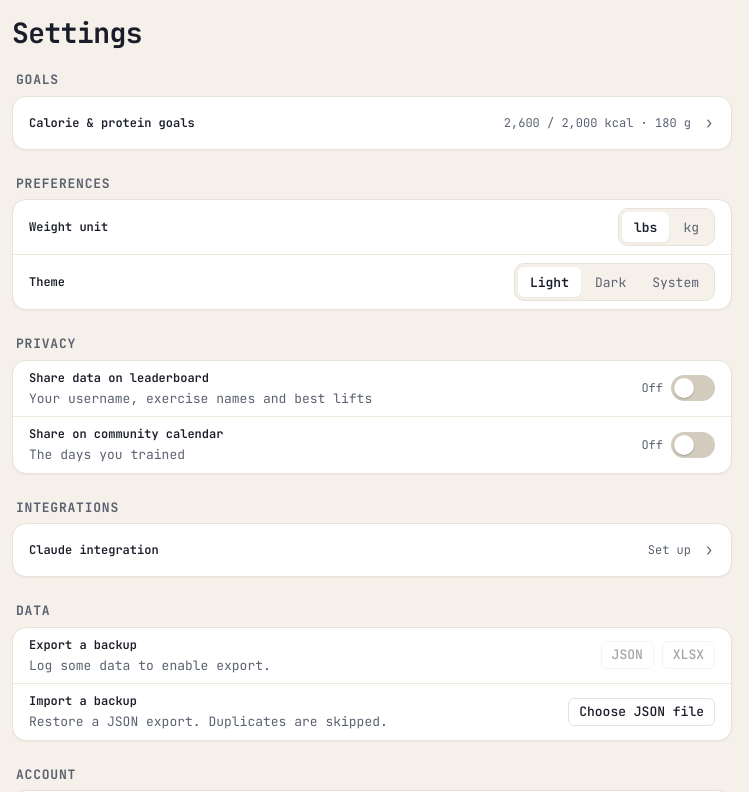
Test case: Settings — goals row › Cancel closes the form without saving
Click the button "Calorie & protein goals 2,600 / 2,000 kcal · 180 g ›" at (112, 122), box x1=13 y1=96 x2=731 y2=148
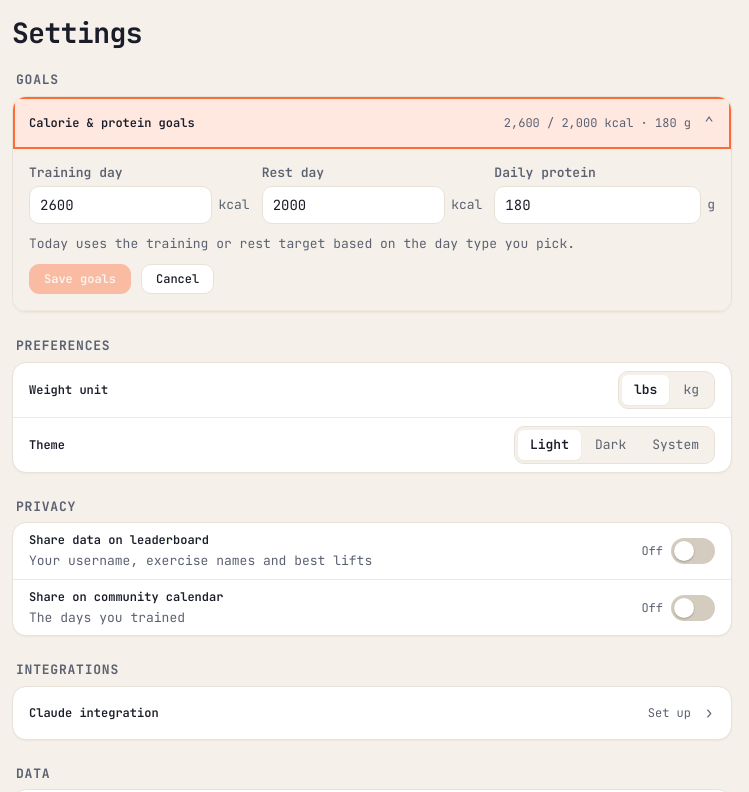
Click the button "Cancel" at (178, 279), box x1=141 y1=264 x2=214 y2=294
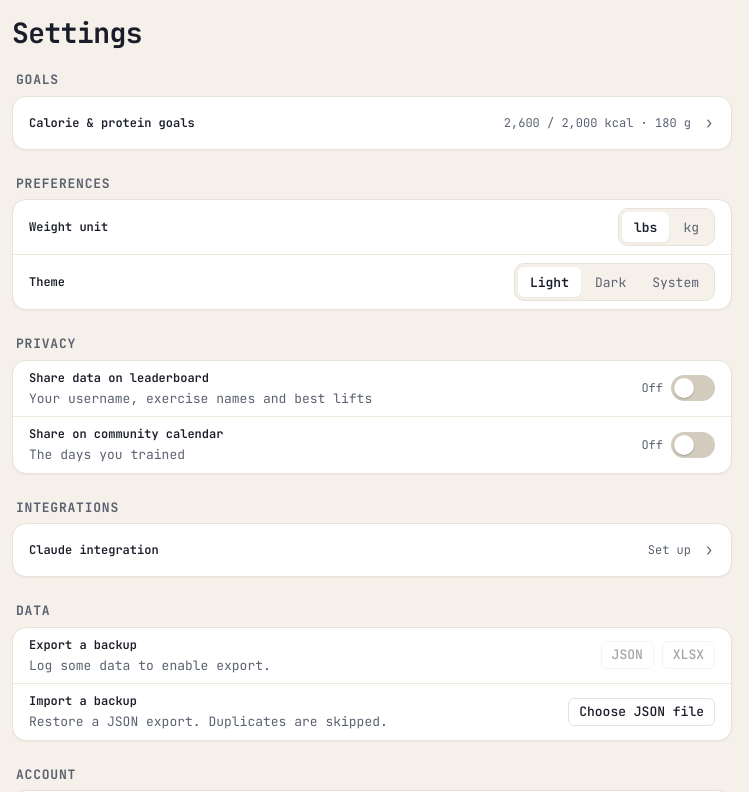
Now the label labelled "Training day" is gone
